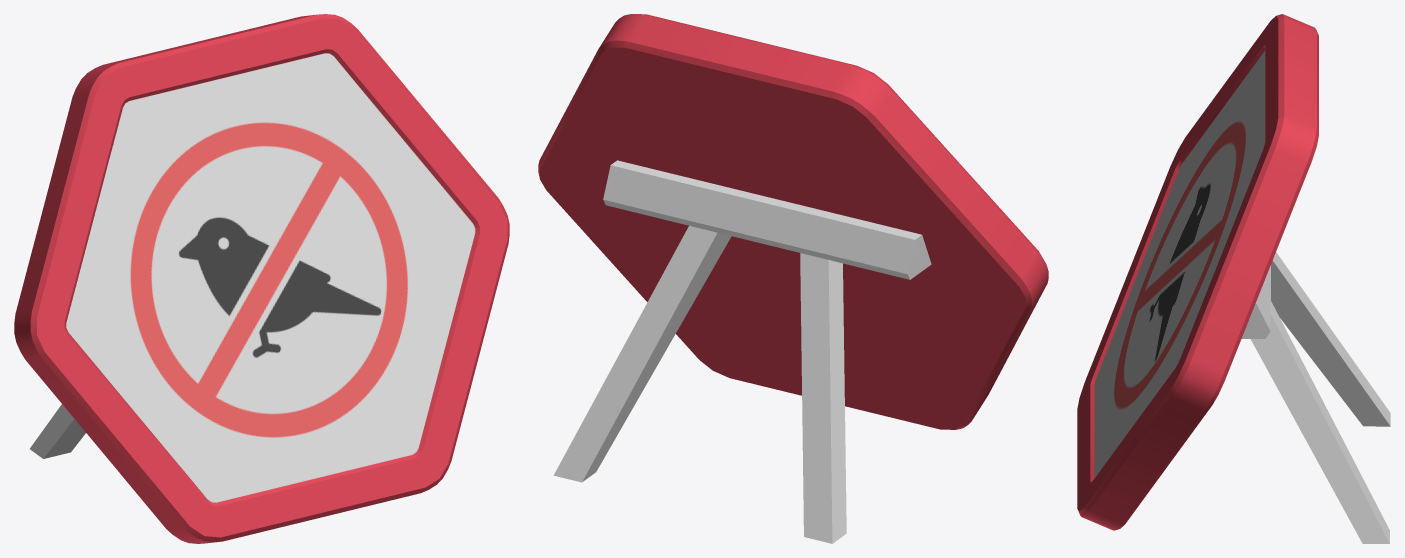
The model's file is 05 Sign No Birds Allowed.fbx.
3 renders of one model, left to right at view 1: azimuth 30°, elevation 25°; view 2: azimuth 150°, elevation 25°; view 3: azimuth 270°, elevation 25°, orthographic. The views are drawn at different scales.
Parts seen in each view (by area): view 1: 04 Sign No Birds Allowed; view 2: 04 Sign No Birds Allowed; view 3: 04 Sign No Birds Allowed.
Part boxes in pixels (<box>): 04 Sign No Birds Allowed: <box>14,14,509,543</box>; 04 Sign No Birds Allowed: <box>538,14,1048,543</box>; 04 Sign No Birds Allowed: <box>1077,14,1390,543</box>.
Size of the model in its own units: 65.97 by 55.05 by 37.96.
1 material, 1 textured.
